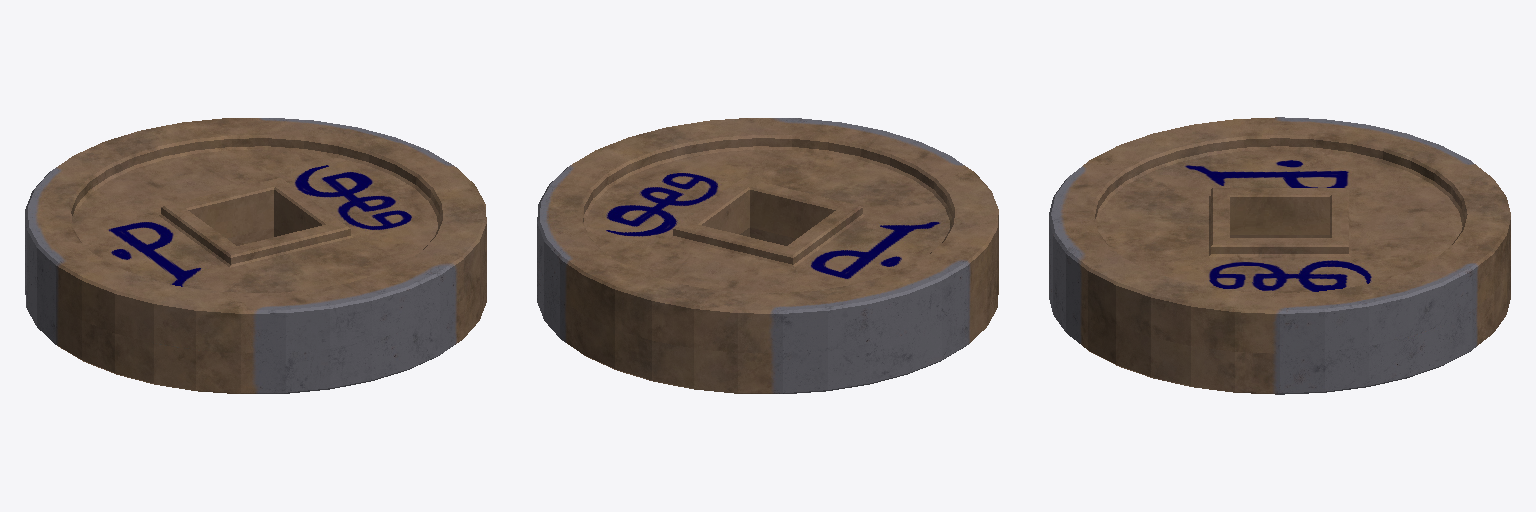
3 views of the same model, side by side, from view 1: azimuth 30°, elevation 25°; view 2: azimuth 150°, elevation 25°; view 3: azimuth 270°, elevation 25° (orthographic).
Visible parts, largest first — view 1: defaultMaterial; view 2: defaultMaterial; view 3: defaultMaterial.
Part boxes in pixels (left/top/right/bottom): defaultMaterial: left=25, top=118, right=486, bottom=393; defaultMaterial: left=537, top=118, right=998, bottom=393; defaultMaterial: left=1049, top=117, right=1510, bottom=394.
Size of the model in its own units: 2 by 0.4 by 2.
1 materials, 1 textured.